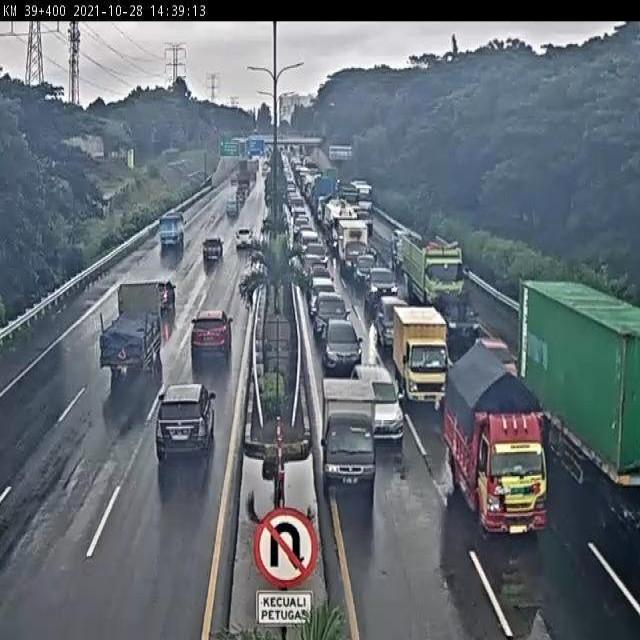big truck: (513, 268, 640, 547), (400, 228, 466, 308)
car: (149, 375, 223, 473), (350, 351, 409, 444), (182, 308, 240, 377), (317, 317, 364, 379), (438, 287, 481, 353), (308, 291, 350, 344), (477, 327, 515, 380), (375, 295, 412, 344), (367, 265, 402, 312), (194, 232, 231, 272), (349, 250, 385, 286), (231, 223, 257, 249)
mid truck: (439, 328, 562, 541), (101, 271, 180, 389), (388, 300, 445, 407), (155, 207, 188, 250)
small truck: (311, 364, 385, 501)
